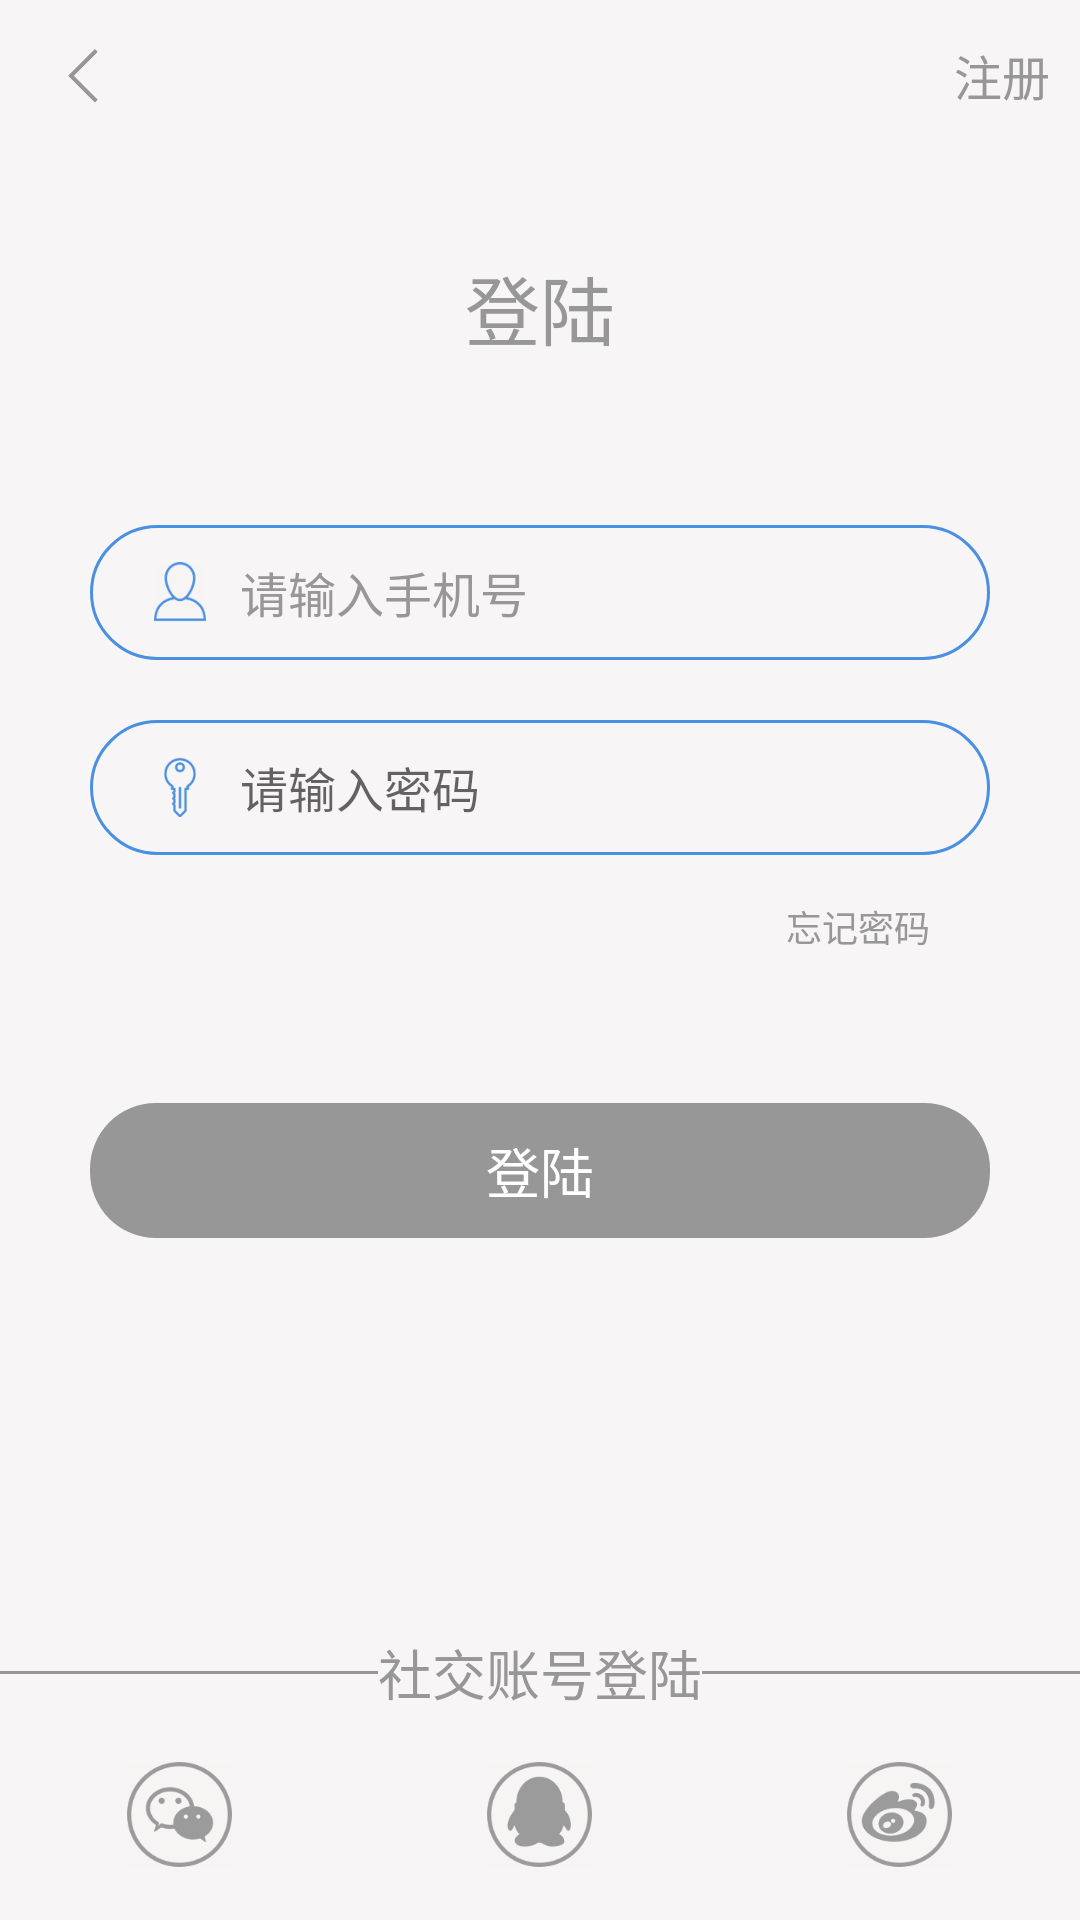

Locate icon controls on the screen. Image size 1080px×1920px, boxes as region(x1, y1, x2, y2).
back: region(68, 49, 98, 102)
user: region(154, 562, 206, 621)
